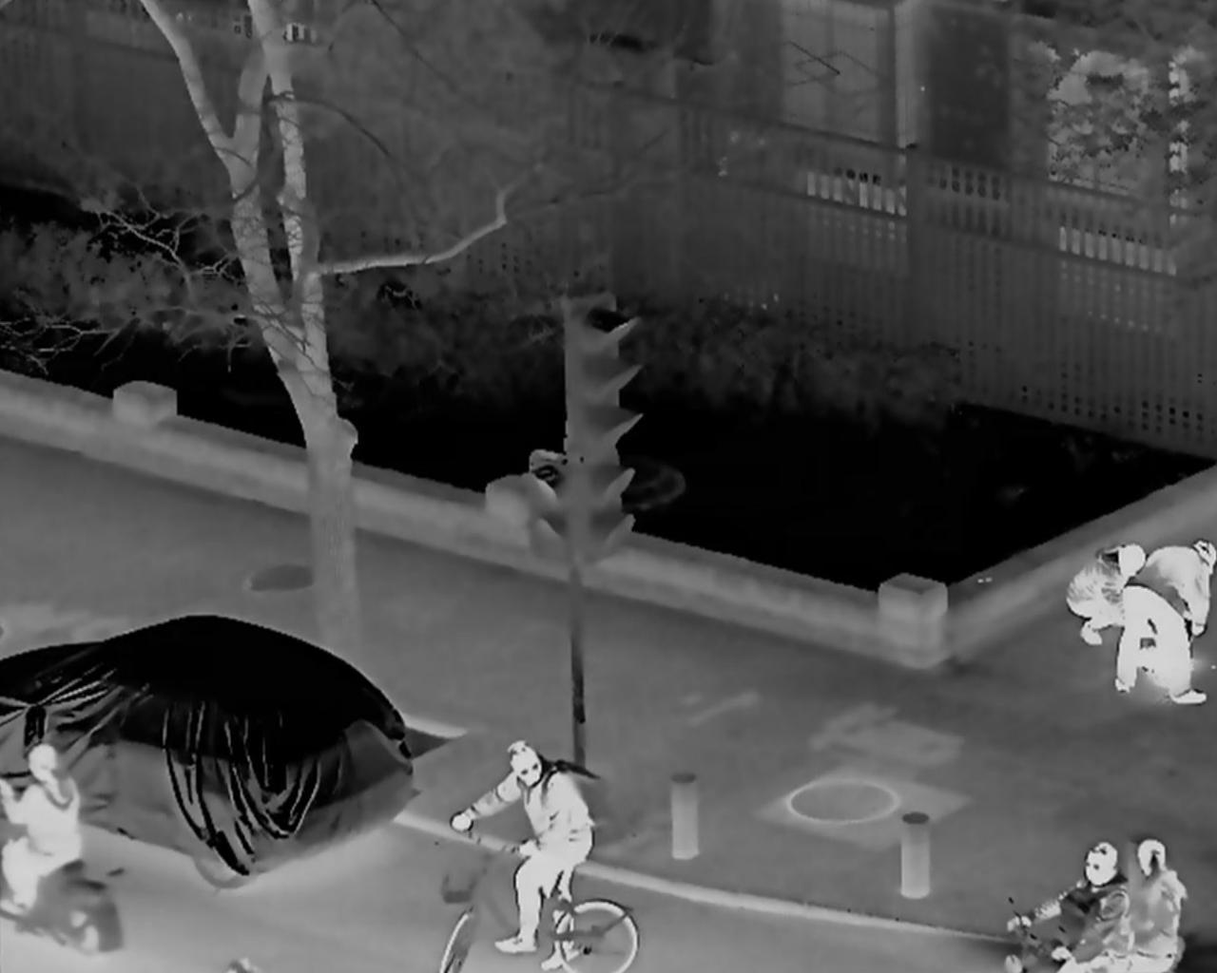person: (454, 741, 584, 968), (1119, 541, 1217, 707), (1013, 843, 1132, 973), (2, 739, 83, 918), (1110, 838, 1184, 973), (1063, 543, 1139, 647)
